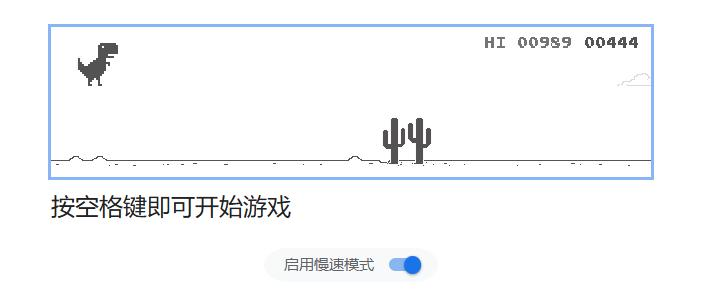cactus: (383, 117, 434, 167)
dino: (75, 41, 118, 87)
